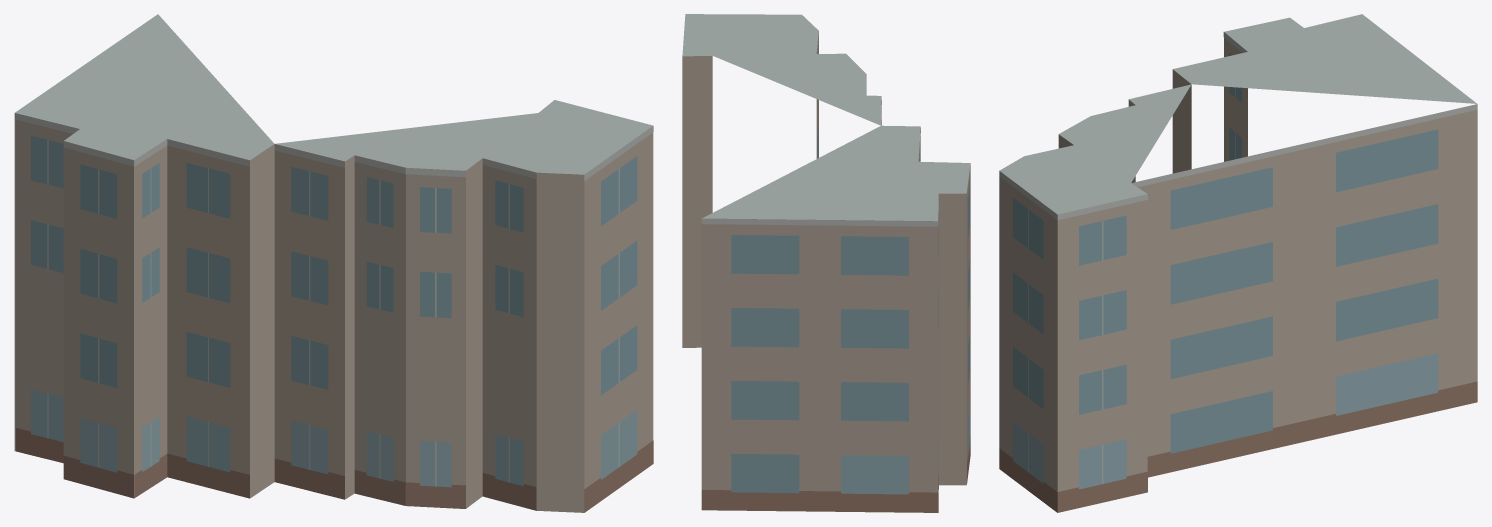
Rendered from survey-upis-32723598.glb.
3 views of the same model, side by side, from view 1: azimuth 30°, elevation 25°; view 2: azimuth 150°, elevation 25°; view 3: azimuth 270°, elevation 25° (orthographic). The views are drawn at different scales.
Visible parts, largest first — view 1: survey-upis-32723598.tmp; view 2: survey-upis-32723598.tmp; view 3: survey-upis-32723598.tmp.
Part boxes in pixels (x1,y1,x2,y2): survey-upis-32723598.tmp: (14, 14, 653, 512); survey-upis-32723598.tmp: (682, 14, 970, 512); survey-upis-32723598.tmp: (999, 14, 1477, 512).
Bounding box in the file's own units: 18.33 × 12.7 × 18.47.
